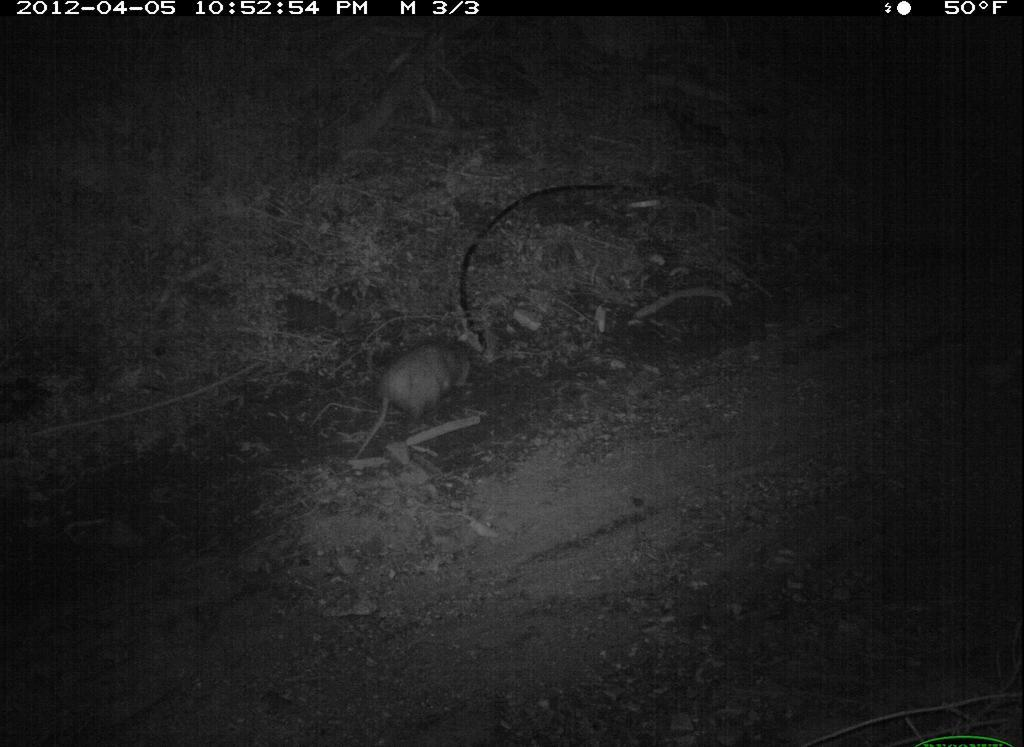opossum: (337, 303, 520, 466)
